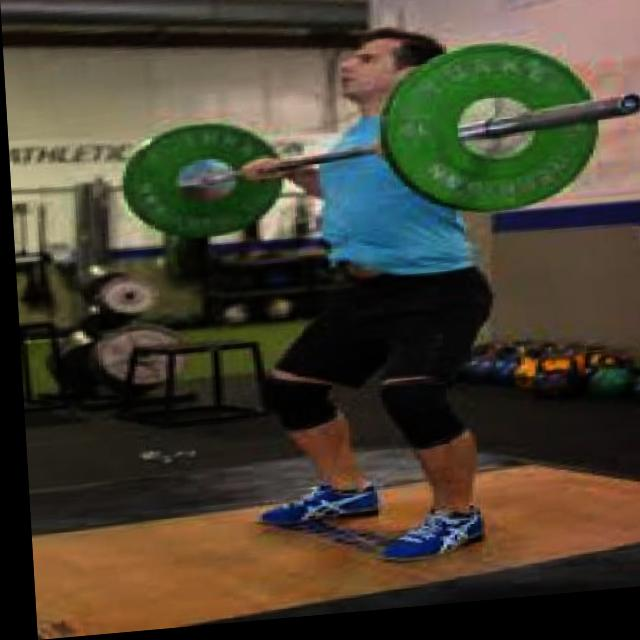barbell: (378, 40, 640, 235)
